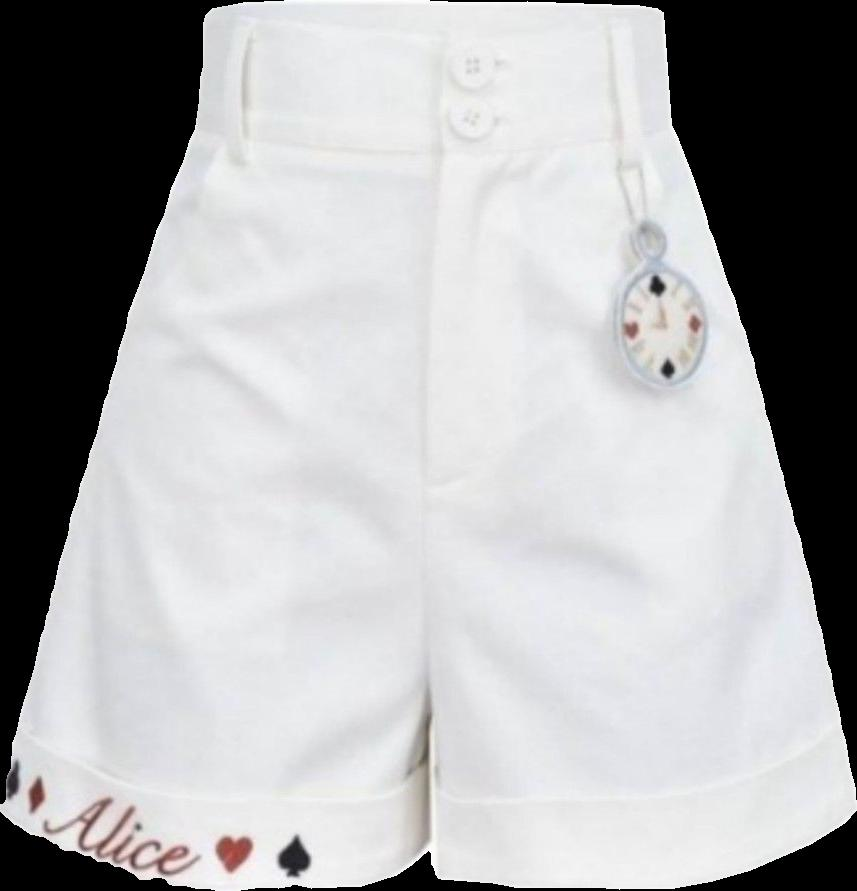Hemline: (0, 803, 435, 890), (425, 803, 856, 890)
Pantleg: (0, 0, 440, 890), (426, 1, 856, 888)
Waistline: (189, 122, 677, 160), (205, 5, 662, 24)
